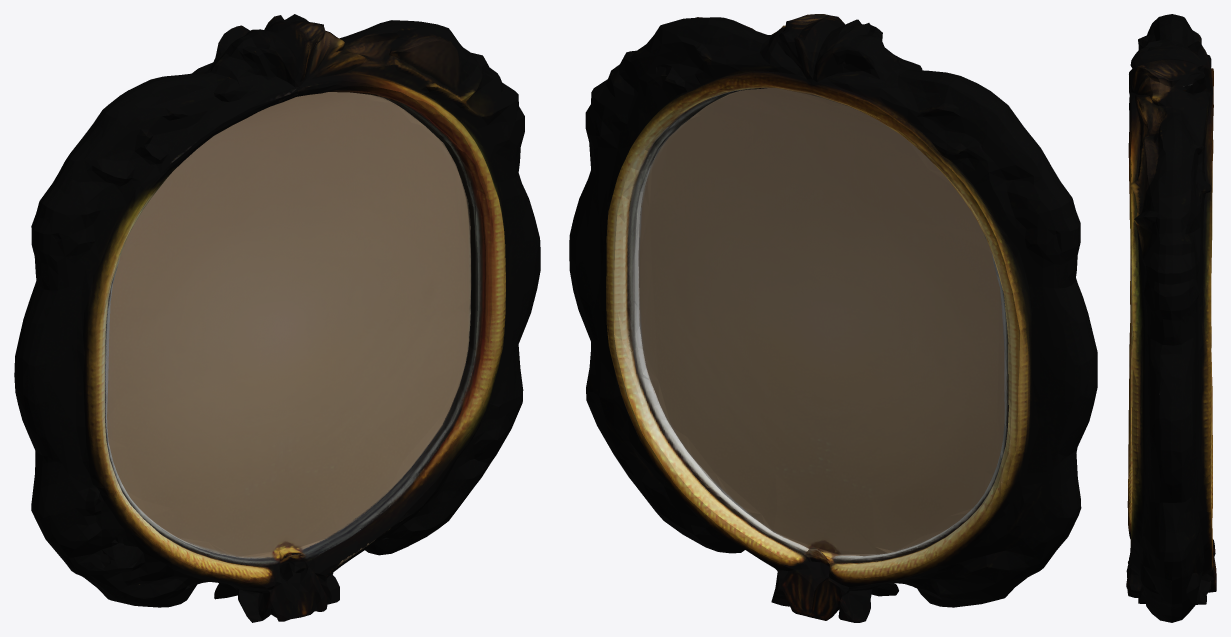
Rendered from banana-fiber-mirror-frame-art-deco.jpeg.glb.
3 views of the same model, side by side, from view 1: azimuth 30°, elevation 25°; view 2: azimuth 150°, elevation 25°; view 3: azimuth 270°, elevation 25° (orthographic). The views are drawn at different scales.
Parts seen in each view (by area): view 1: world; view 2: world; view 3: world.
Boxes of the visible parts, left/top/right/bottom form: world: left=14, top=14, right=540, bottom=622; world: left=569, top=14, right=1097, bottom=622; world: left=1126, top=14, right=1216, bottom=622.
Bounding box in the file's own units: 0.9516 × 1 × 0.154.
1 material, 1 textured.
